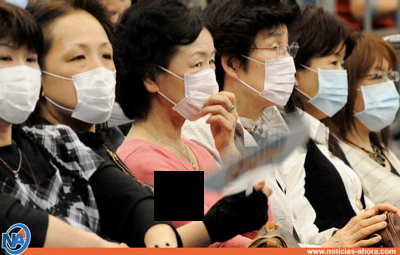with_mask: (48, 39, 118, 124), (162, 47, 221, 123), (242, 30, 298, 105), (1, 41, 43, 125), (301, 51, 351, 118), (357, 65, 400, 132)
